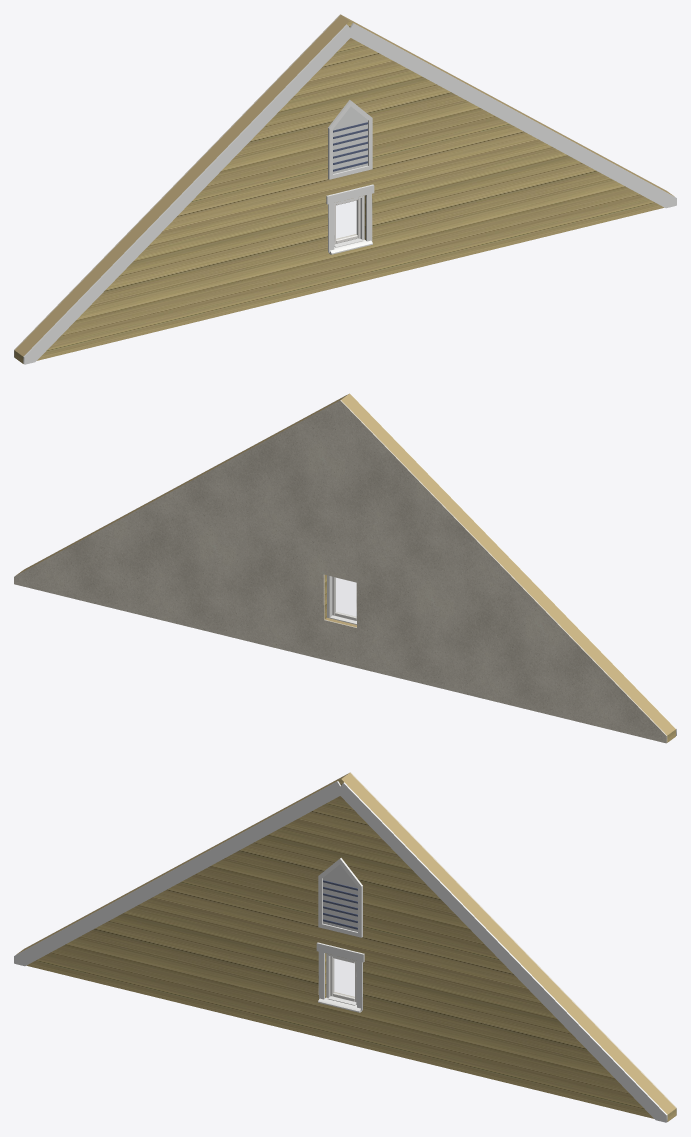
File: gable_side.glb
3 views of the same model, one above another, from view 1: azimuth 30°, elevation 25°; view 2: azimuth 150°, elevation 25°; view 3: azimuth 330°, elevation 25° (orthographic).
Visible parts, largest first — view 1: gable_side_siding, gable_side_trim, gable_side_vent, gable_side_glass, gable_side_shutter_dark, gable_side_plaster; view 2: gable_side_plaster, gable_side_siding, gable_side_trim, gable_side_glass; view 3: gable_side_siding, gable_side_trim, gable_side_vent, gable_side_glass, gable_side_shutter_dark, gable_side_plaster.
Part boxes in pixels (x1,y1,x2,y2): gable_side_siding: (14, 15, 674, 363); gable_side_trim: (23, 23, 676, 364); gable_side_vent: (333, 106, 367, 173); gable_side_glass: (336, 201, 356, 239); gable_side_shutter_dark: (333, 122, 367, 171); gable_side_plaster: (14, 14, 666, 357); gable_side_plaster: (14, 400, 667, 743); gable_side_siding: (16, 393, 675, 742); gable_side_trim: (24, 395, 676, 735); gable_side_glass: (336, 578, 355, 616); gable_side_siding: (16, 773, 676, 1121); gable_side_trim: (14, 781, 667, 1122); gable_side_vent: (323, 864, 357, 931); gable_side_glass: (334, 959, 354, 997); gable_side_shutter_dark: (323, 880, 357, 929); gable_side_plaster: (24, 772, 676, 1115).
Size of the model in its own units: 12 by 4.63 by 0.38.
Materials: 8 (2 with a texture image).
